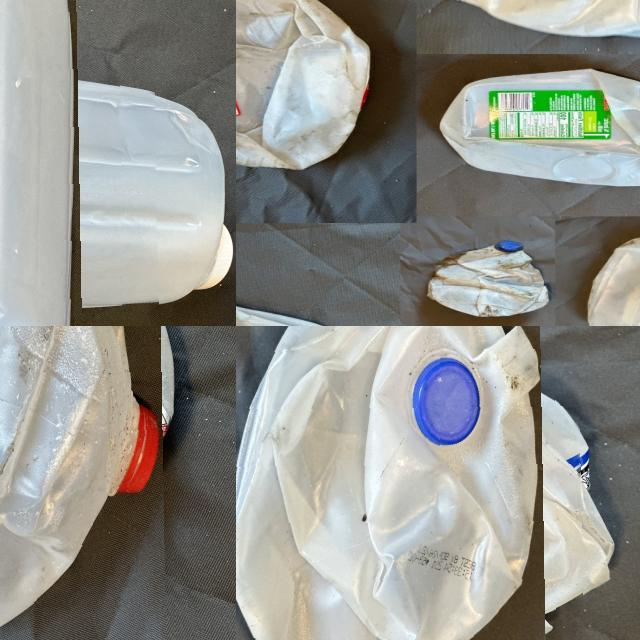milk-jug: (236, 326, 581, 640), (0, 326, 172, 640), (0, 0, 157, 326), (441, 69, 640, 189), (236, 0, 370, 169), (424, 238, 556, 318), (434, 0, 640, 39), (584, 228, 640, 326)
